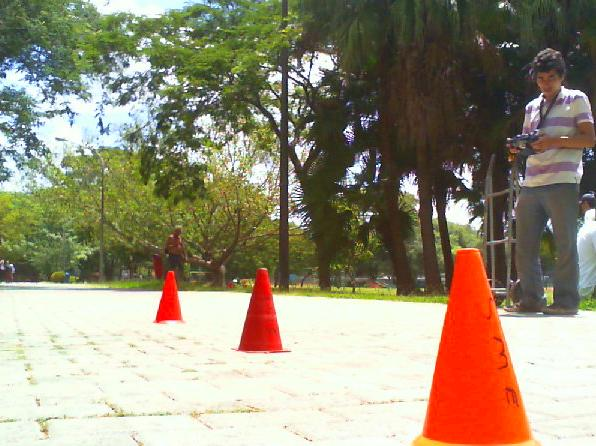0 cone: (409, 249, 543, 446), (233, 268, 291, 353), (153, 271, 184, 324)
